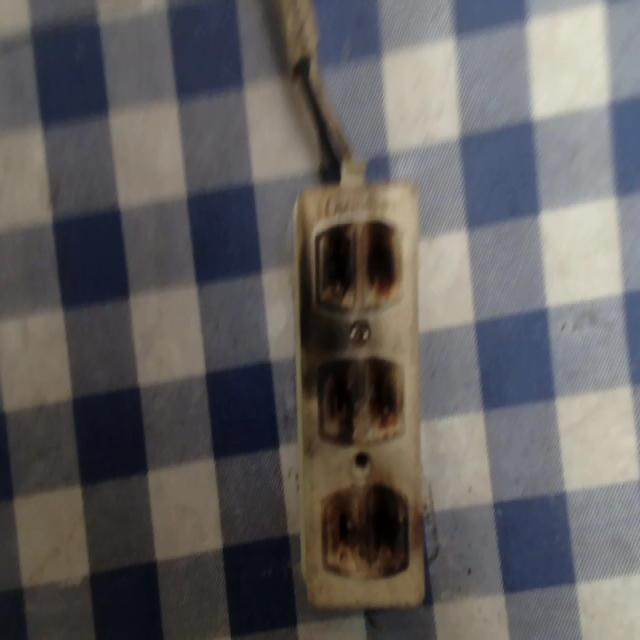-: (310, 217, 404, 311), (321, 481, 411, 579), (315, 354, 405, 442)
